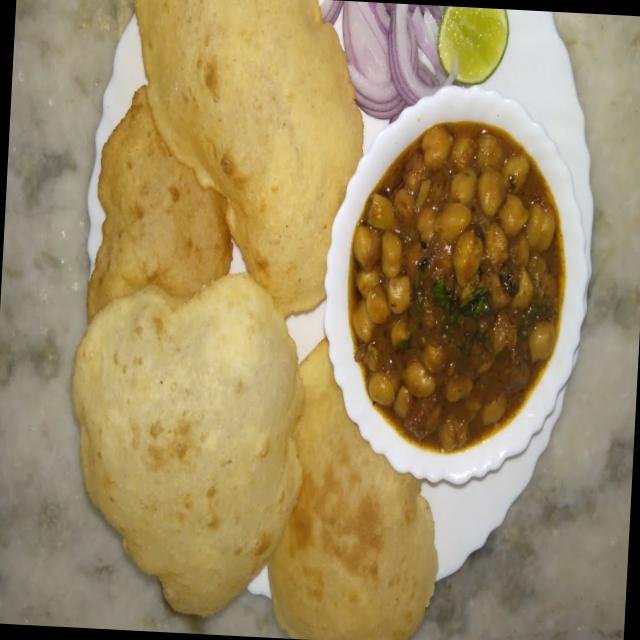Bhatura: (62, 0, 369, 628), (259, 335, 450, 640)
Chole: (346, 118, 570, 440)
